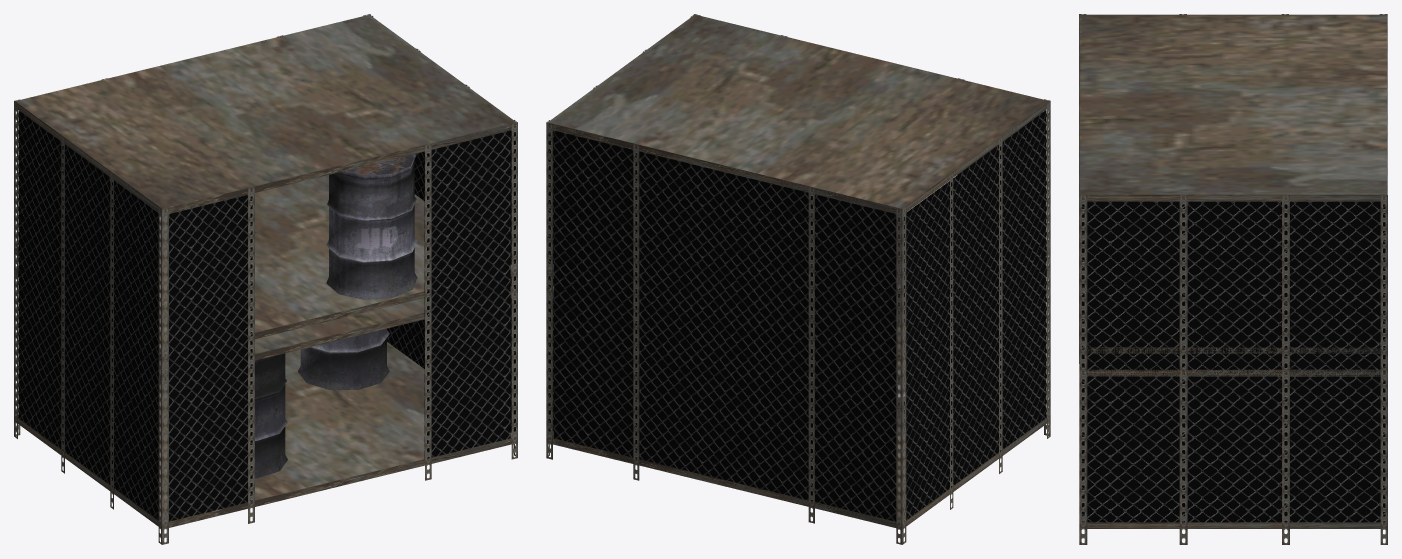
Rendered from rack2.obj.
3 renders of one model, left to right at view 1: azimuth 30°, elevation 25°; view 2: azimuth 150°, elevation 25°; view 3: azimuth 270°, elevation 25°, orthographic. The views are drawn at different scales.
Parts seen in each view (by area): view 1: RACK2; view 2: RACK2; view 3: RACK2.
Boxes of the visible parts, x1,y1,x2,y2 form: RACK2: (14,14,517,544); RACK2: (546,14,1050,544); RACK2: (1079,14,1387,544).
Size of the model in its own units: 2.37 by 2.13 by 1.71.
4 materials, 4 textured.
